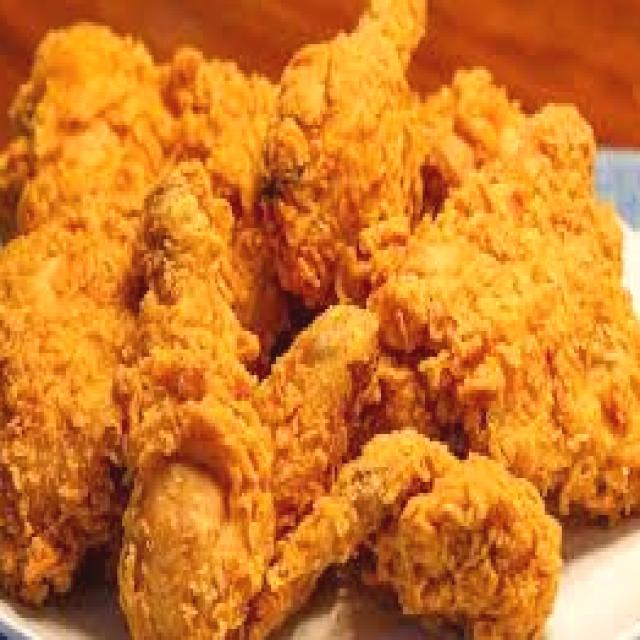ayam_goreng: (0, 0, 640, 640), (268, 438, 566, 635), (125, 187, 247, 640), (259, 0, 435, 280)
